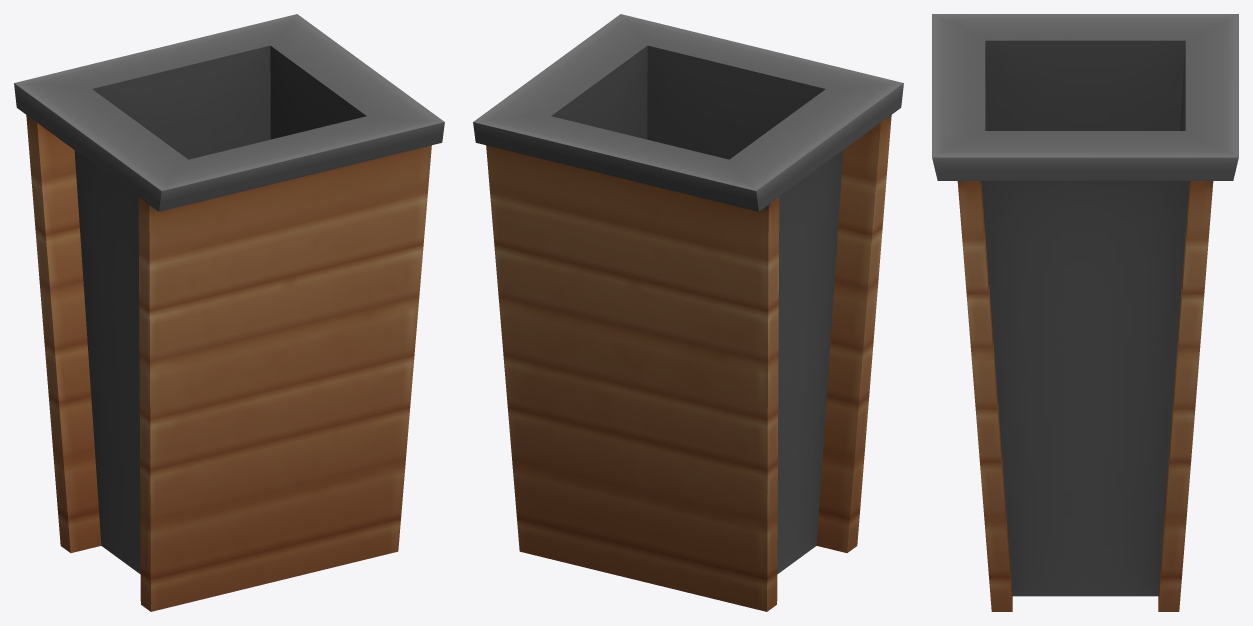
File: Bin.FBX
The picture shows the model from 3 angles, left to right: view 1: azimuth 30°, elevation 25°; view 2: azimuth 150°, elevation 25°; view 3: azimuth 270°, elevation 25°; orthographic projection. The views are drawn at different scales.
Parts seen in each view (by area): view 1: Bin; view 2: Bin; view 3: Bin.
Boxes of the visible parts, bbox=[...] form: Bin: bbox=[14, 14, 444, 611]; Bin: bbox=[473, 14, 903, 611]; Bin: bbox=[932, 14, 1238, 611].
Bounding box in the file's own units: 56.59 × 85.17 × 51.1.
